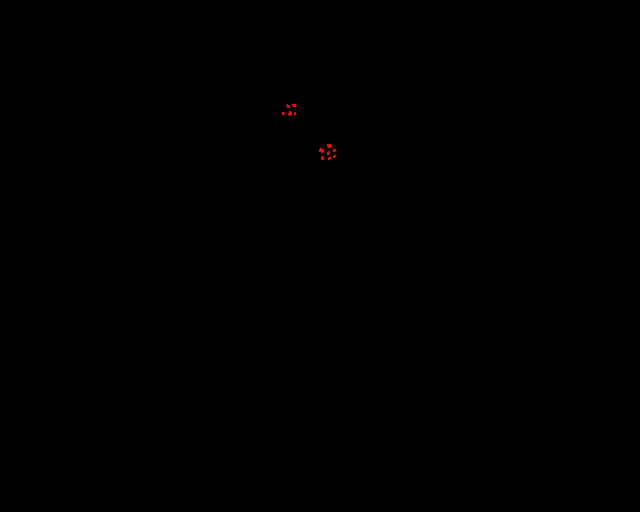Target: (319, 148, 324, 153), (288, 111, 292, 116), (327, 144, 332, 148), (286, 104, 290, 108), (292, 104, 297, 107), (327, 151, 330, 155), (321, 156, 324, 160), (282, 112, 285, 115), (333, 149, 336, 152), (333, 155, 336, 158), (328, 157, 331, 160), (294, 112, 296, 115)
